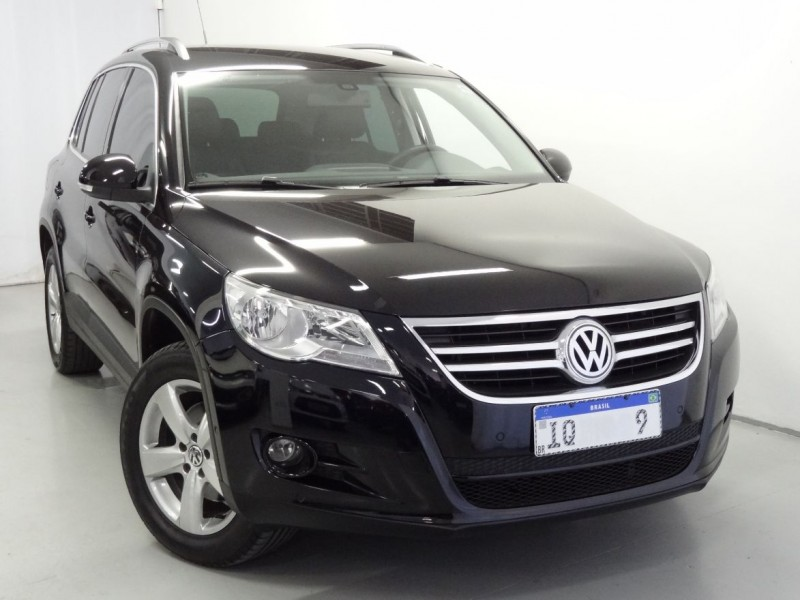Carro: (29, 37, 746, 567)
